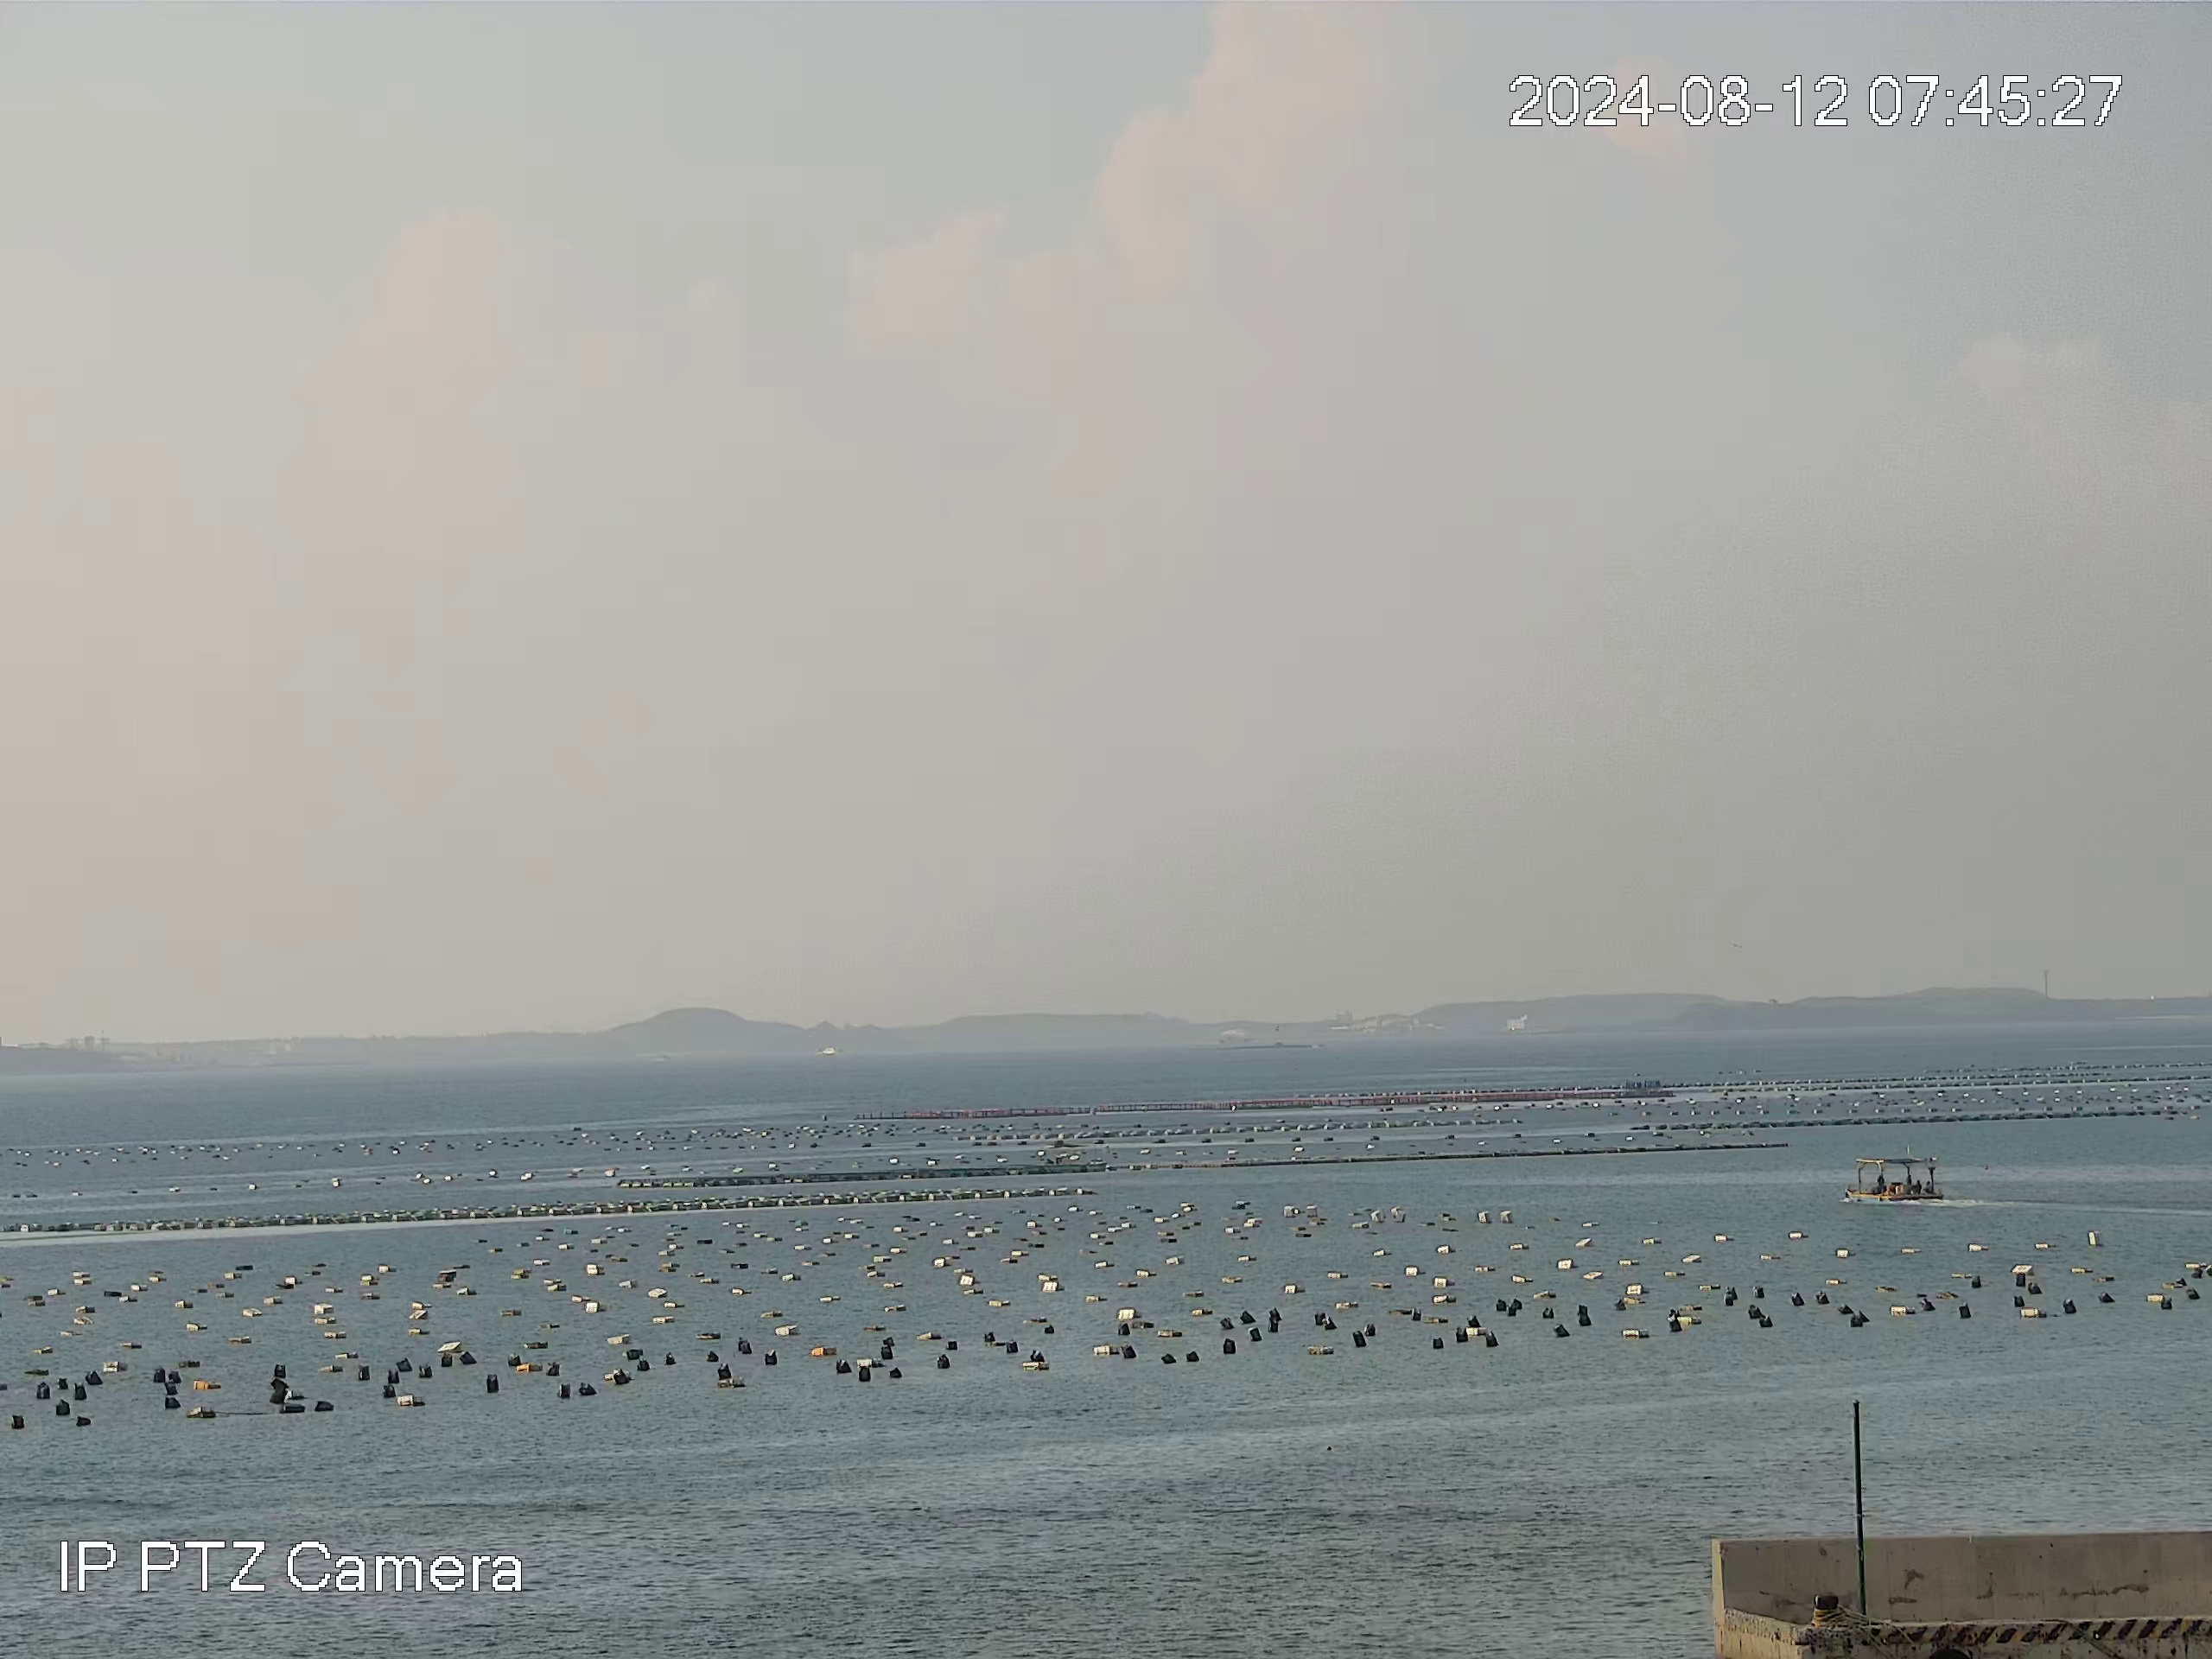boat: (1834, 1147, 1956, 1216)
